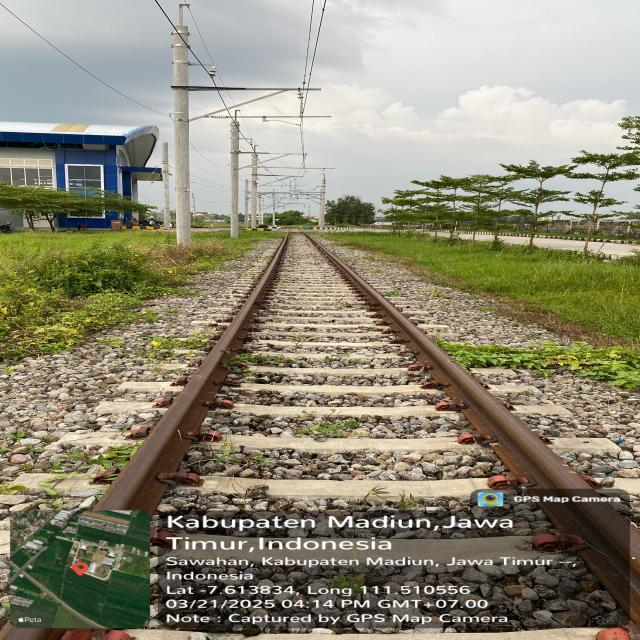rail-detection: (306, 236, 640, 624), (98, 240, 286, 510)
